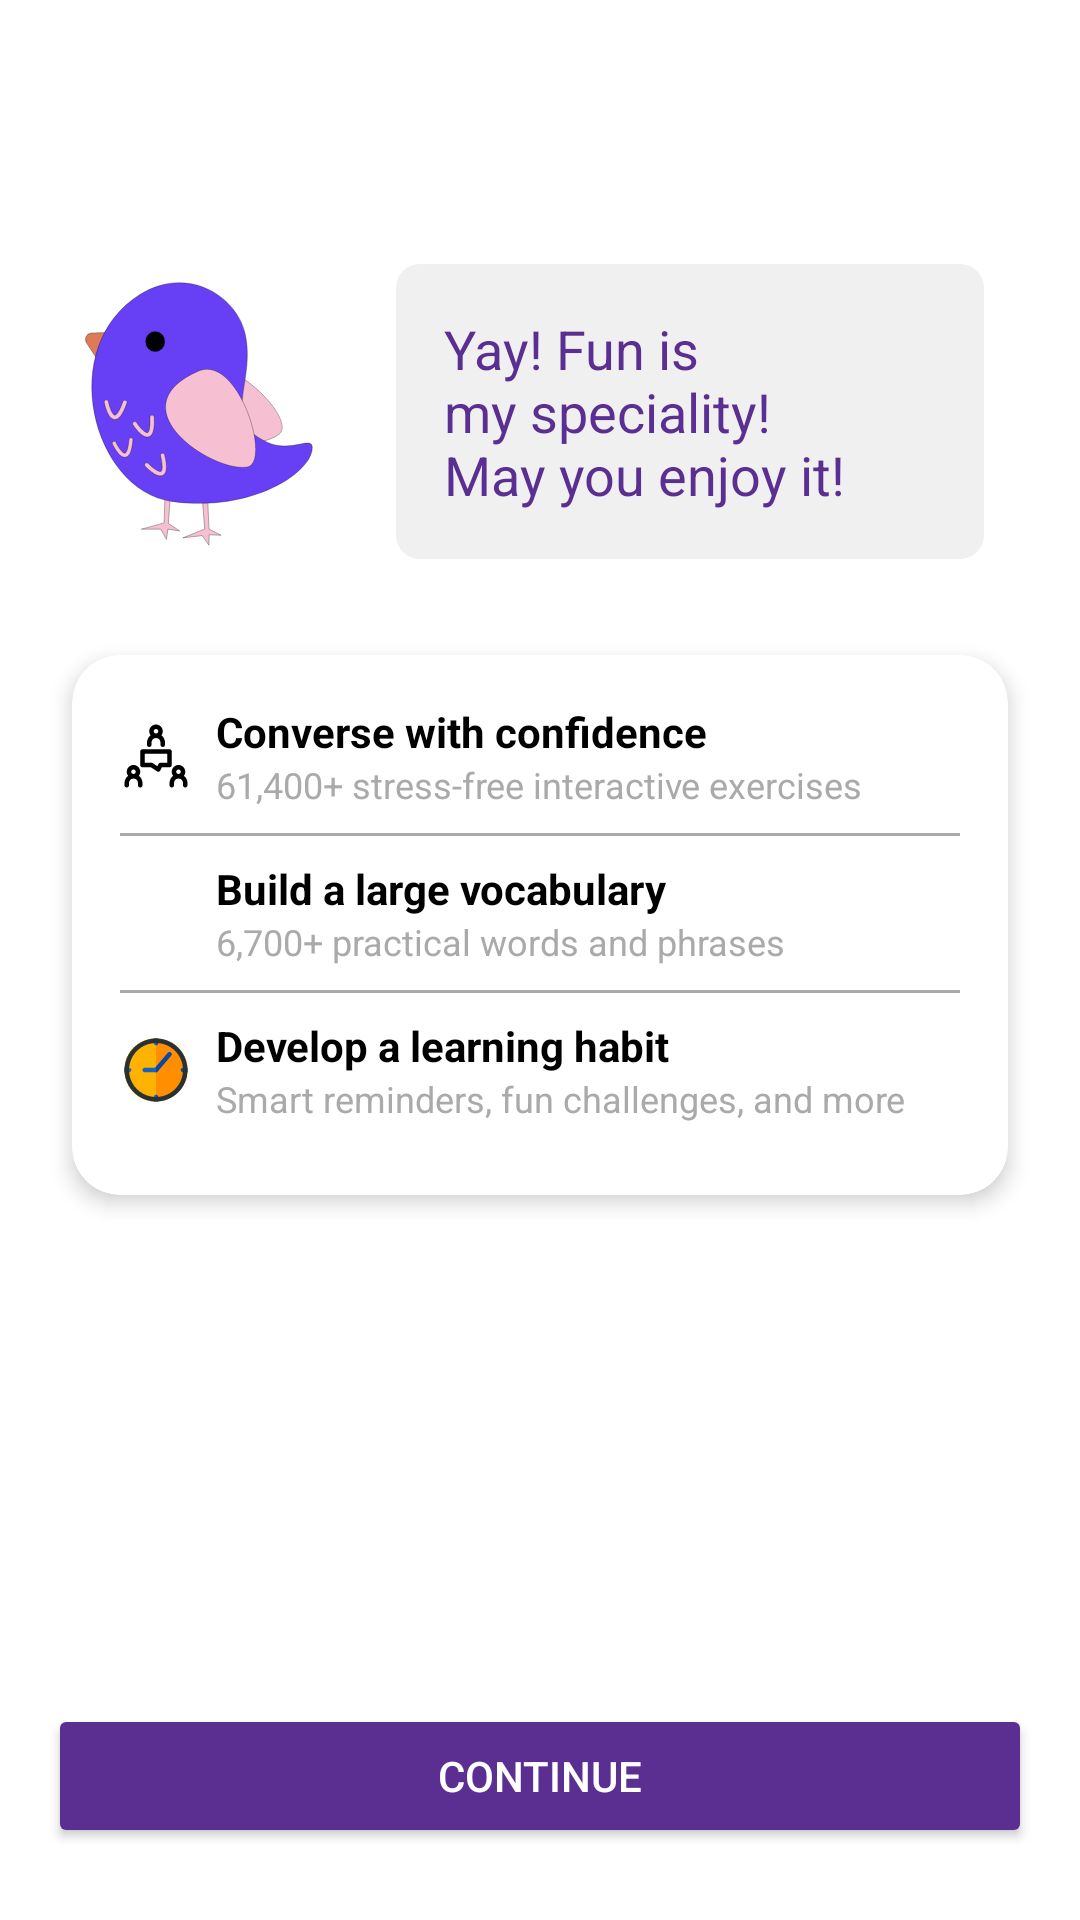

Where to tap for icons on this 1080w x 1920h app screen, as point (x, y):
bird: point (199, 413)
clock: point (156, 1070)
